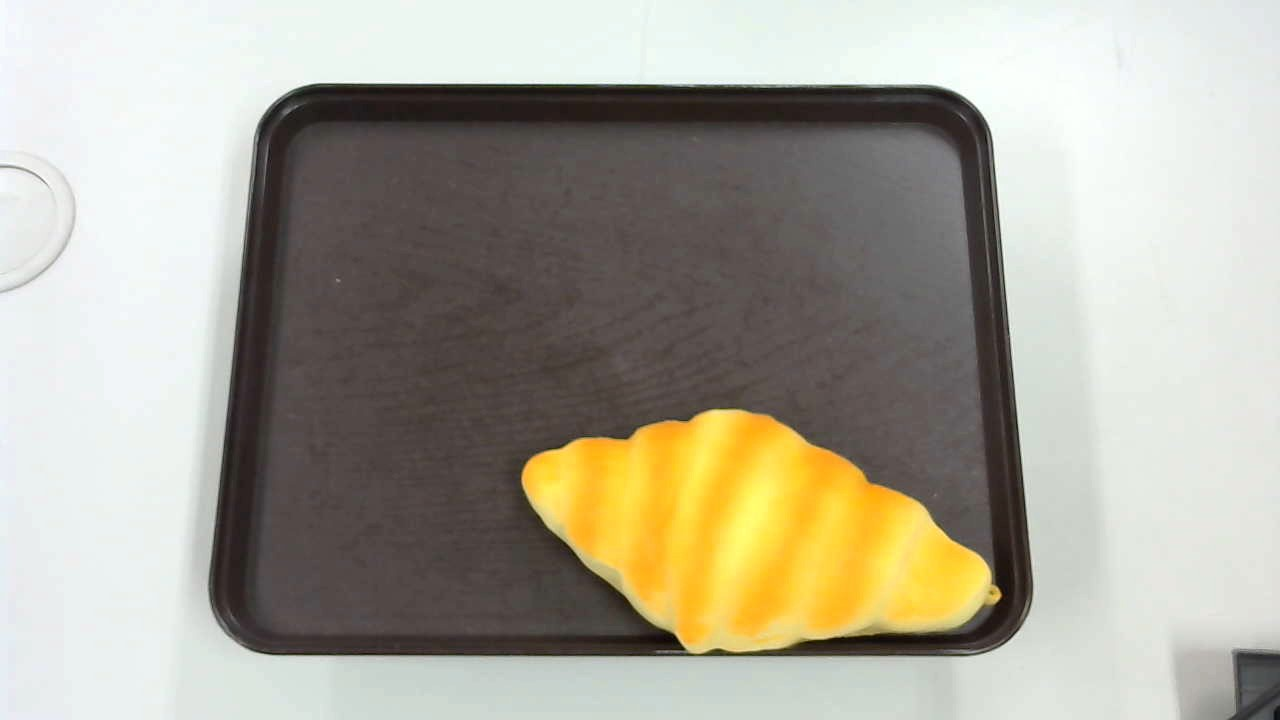croissant: (520, 405, 1002, 657)
